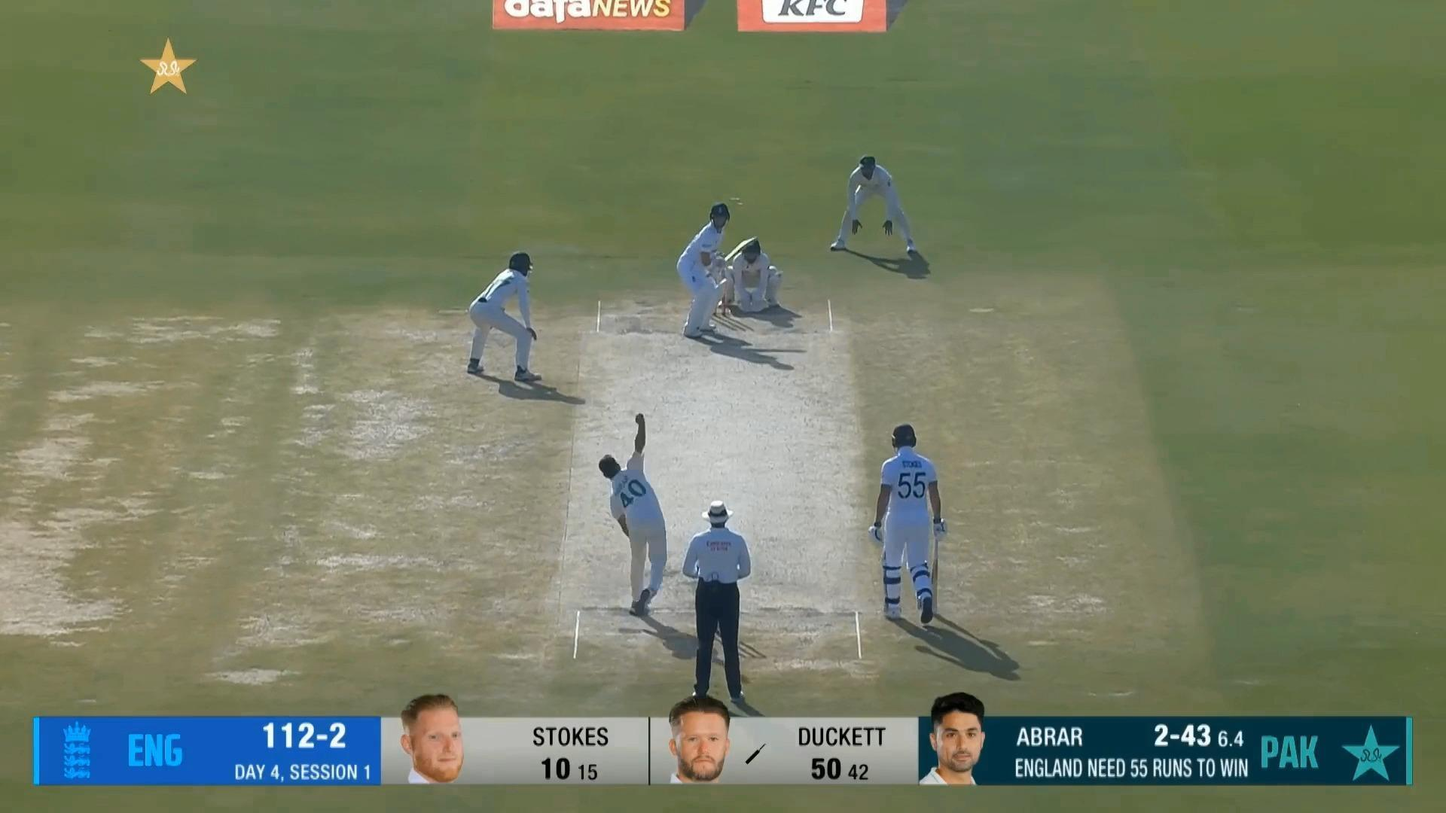BM 1: (674, 201, 759, 339)
BO: (598, 412, 668, 617)
